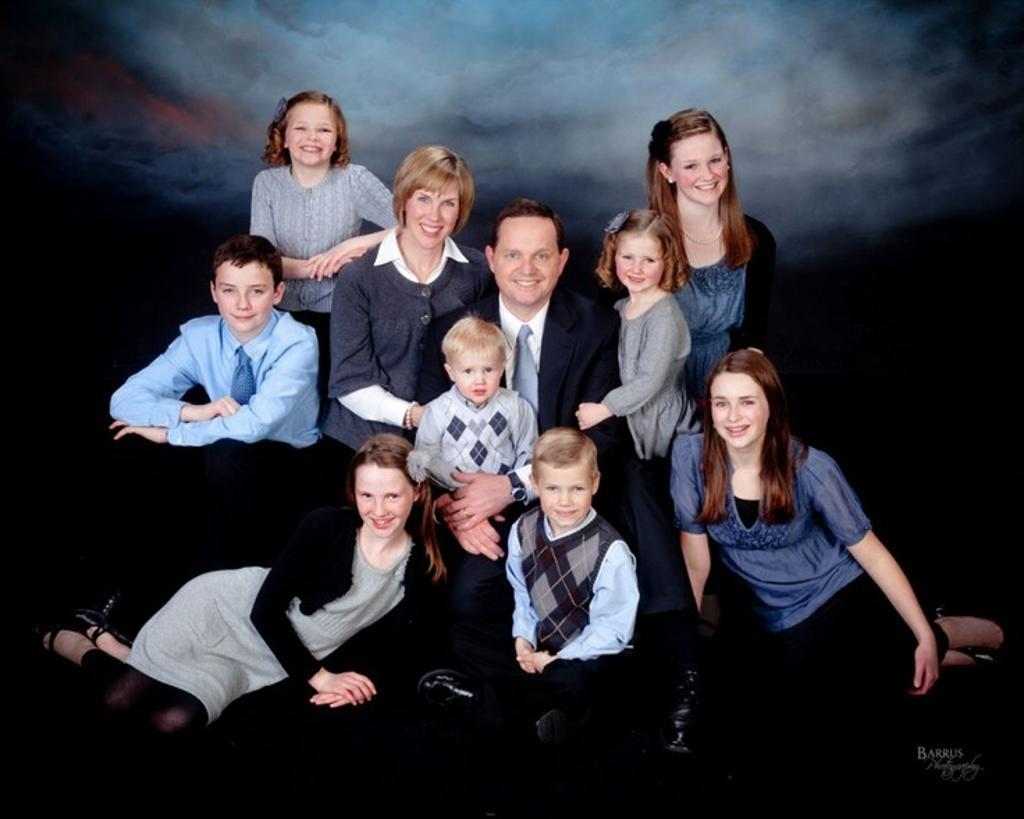face: (495, 218, 560, 304), (712, 374, 769, 449), (217, 260, 274, 332), (356, 467, 412, 540), (674, 136, 727, 205), (409, 180, 458, 249), (541, 468, 591, 528), (288, 105, 336, 165), (617, 234, 664, 293), (455, 351, 499, 403)
